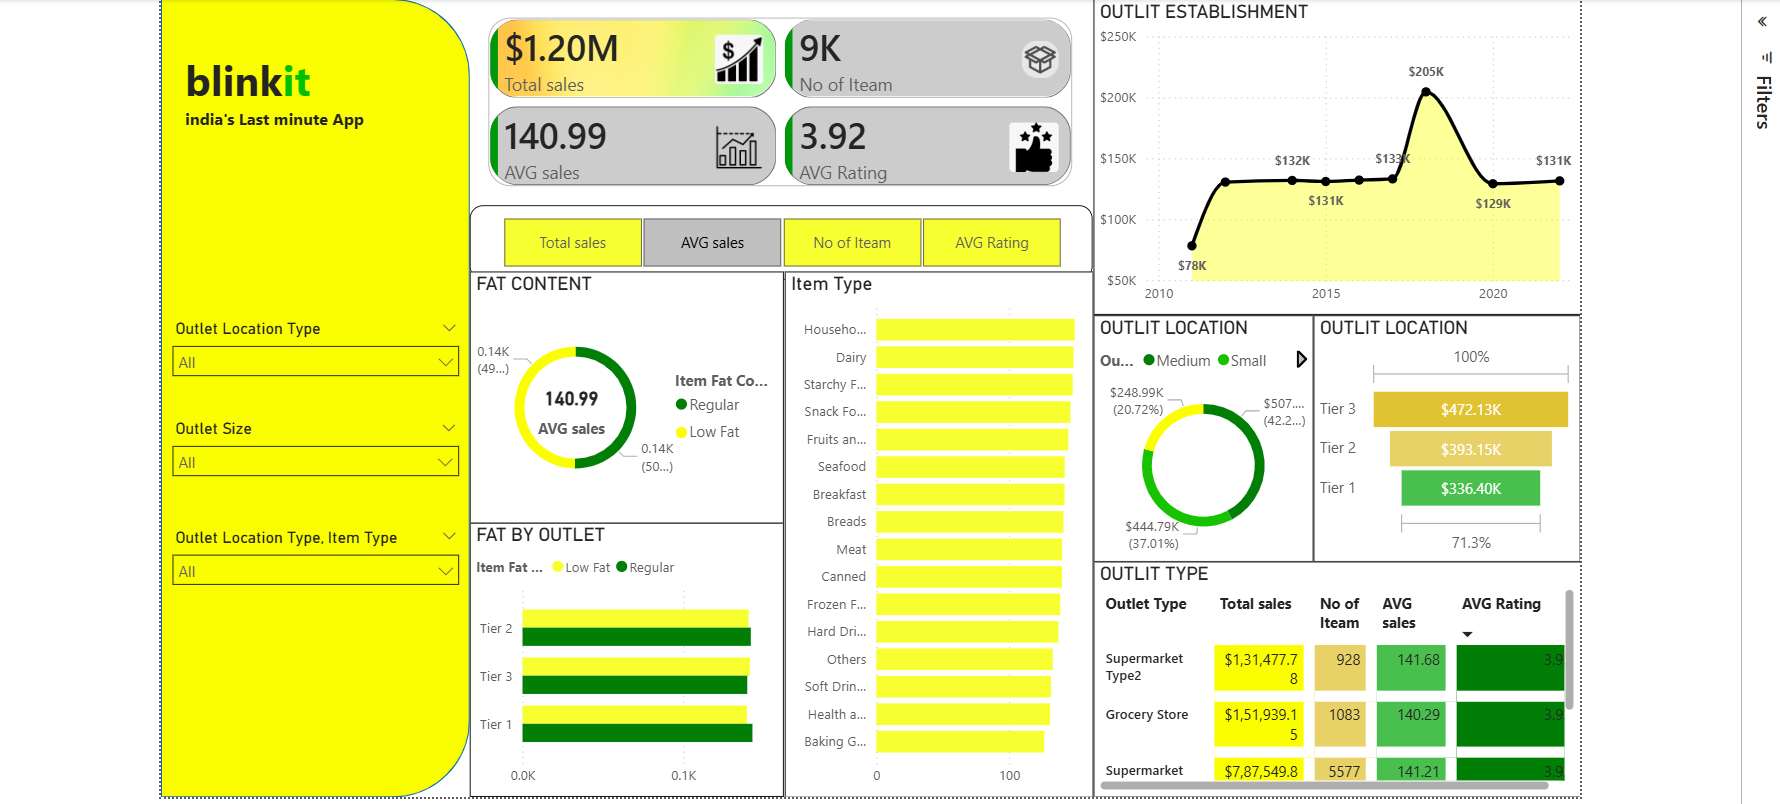

The dashboard page shown, as its layout file describes it:
{"tool":"powerbi","page":{"name":"Page 1","canvas":[1280,720],"ordinal":0},"visuals":[{"type":"shape","box":[0,0,278.6,720],"z":0},{"type":"slicer","fields":{"Values":["BlinkIT-Grocery-Data.Outlet Location Type"]},"box":[0,284.3,279.2,75.8],"z":1000},{"type":"slicer","fields":{"Values":["BlinkIT-Grocery-Data.Outlet Size"]},"box":[0,374.1,278.6,72],"z":2000},{"type":"slicer","fields":{"Values":["BlinkIT-Grocery-Data.Outlet Location Type","BlinkIT-Grocery-Data.Item Type"]},"box":[0,472.2,279.2,70.7],"z":3000},{"type":"textbox","box":[17.2,43.1,279.2,149.9],"z":4000},{"type":"cardVisual","fields":{"Data":["BlinkIT-Grocery-Data.Total sales","BlinkIT-Grocery-Data.No of Iteam","BlinkIT-Grocery-Data.AVG sales","BlinkIT-Grocery-Data.AVG Rating"]},"box":[278.6,0,561.9,186.3],"z":5000},{"type":"slicer","fields":{"Values":["Parameter.Parameter"]},"box":[278.6,186.3,561.9,67.3],"z":6000},{"type":"clusteredBarChart","title":" Item Type","fields":{"Y":["BlinkIT-Grocery-Data.AVG sales"],"Category":["BlinkIT-Grocery-Data.Item Type"]},"box":[561.9,245.7,278.6,474.2],"z":7000},{"type":"clusteredBarChart","title":"FAT BY OUTLET","fields":{"Y":["BlinkIT-Grocery-Data.AVG sales"],"Category":["BlinkIT-Grocery-Data.Outlet Location Type"],"Series":["BlinkIT-Grocery-Data.Item Fat Content"]},"box":[278.6,472.7,283.3,247.3],"z":8000},{"type":"donutChart","title":"FAT CONTENT","fields":{"Y":["BlinkIT-Grocery-Data.AVG sales"],"Category":["BlinkIT-Grocery-Data.Item Fat Content"]},"box":[278.6,245.7,283.3,227],"z":9000},{"type":"lineChart","title":"OUTLIT ESTABLISHMENT","fields":{"Category":["BlinkIT-Grocery-Data.Outlet Establishment Year"],"Y":["BlinkIT-Grocery-Data.Total sales"]},"box":[840.5,0,439.8,284.9],"z":10000},{"type":"donutChart","title":"OUTLIT LOCATION","fields":{"Y":["BlinkIT-Grocery-Data.Total sales"],"Category":["BlinkIT-Grocery-Data.Outlet Size"]},"box":[840.5,284.9,198.8,222.3],"z":11000},{"type":"funnel","title":"OUTLIT LOCATION","fields":{"Category":["BlinkIT-Grocery-Data.Outlet Location Type"],"Y":["BlinkIT-Grocery-Data.Total sales"]},"box":[1039.3,284.9,241,222.3],"z":12000},{"type":"pivotTable","title":"OUTLIT TYPE","fields":{"Rows":["BlinkIT-Grocery-Data.Outlet Type"],"Values":["BlinkIT-Grocery-Data.Total sales","BlinkIT-Grocery-Data.No of Iteam","BlinkIT-Grocery-Data.AVG sales","BlinkIT-Grocery-Data.AVG Rating"]},"box":[840.5,507.1,439.8,212.9],"z":13000},{"type":"card","fields":{"Values":["BlinkIT-Grocery-Data.AVG sales"]},"box":[320.9,322.4,100.2,98.6],"z":14000}]}

Visuals, with their boxes on the page's 1280x720 design canvas (x1, y1, x2, y2). These are canvas units, not pixel positions in the 1780x804 screenshot, which may show the page scaled, cropped or inside an application window:
shape: {"x1": 0, "y1": 0, "x2": 279, "y2": 720}
slicer - BlinkIT-Grocery-Data.Outlet Location Type: {"x1": 0, "y1": 284, "x2": 279, "y2": 360}
slicer - BlinkIT-Grocery-Data.Outlet Size: {"x1": 0, "y1": 374, "x2": 279, "y2": 446}
slicer - BlinkIT-Grocery-Data.Outlet Location Type x BlinkIT-Grocery-Data.Item Type: {"x1": 0, "y1": 472, "x2": 279, "y2": 543}
textbox: {"x1": 17, "y1": 43, "x2": 296, "y2": 193}
cardVisual - BlinkIT-Grocery-Data.Total sales x BlinkIT-Grocery-Data.No of Iteam: {"x1": 279, "y1": 0, "x2": 840, "y2": 186}
slicer - Parameter.Parameter: {"x1": 279, "y1": 186, "x2": 840, "y2": 254}
" Item Type" clusteredBarChart: {"x1": 562, "y1": 246, "x2": 840, "y2": 720}
"FAT BY OUTLET" clusteredBarChart: {"x1": 279, "y1": 473, "x2": 562, "y2": 720}
"FAT CONTENT" donutChart: {"x1": 279, "y1": 246, "x2": 562, "y2": 473}
"OUTLIT ESTABLISHMENT" lineChart: {"x1": 840, "y1": 0, "x2": 1280, "y2": 285}
"OUTLIT LOCATION" donutChart: {"x1": 840, "y1": 285, "x2": 1039, "y2": 507}
"OUTLIT LOCATION" funnel: {"x1": 1039, "y1": 285, "x2": 1280, "y2": 507}
"OUTLIT TYPE" pivotTable: {"x1": 840, "y1": 507, "x2": 1280, "y2": 720}
card - BlinkIT-Grocery-Data.AVG sales: {"x1": 321, "y1": 322, "x2": 421, "y2": 421}
